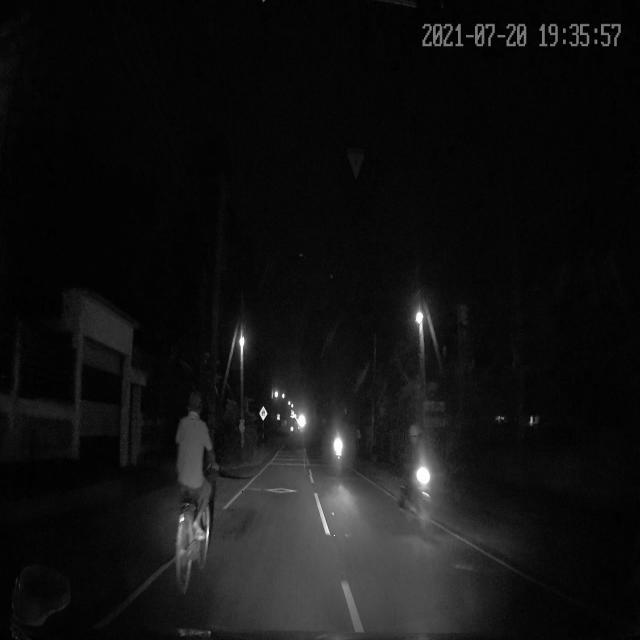diamond: (215, 475, 346, 560)
